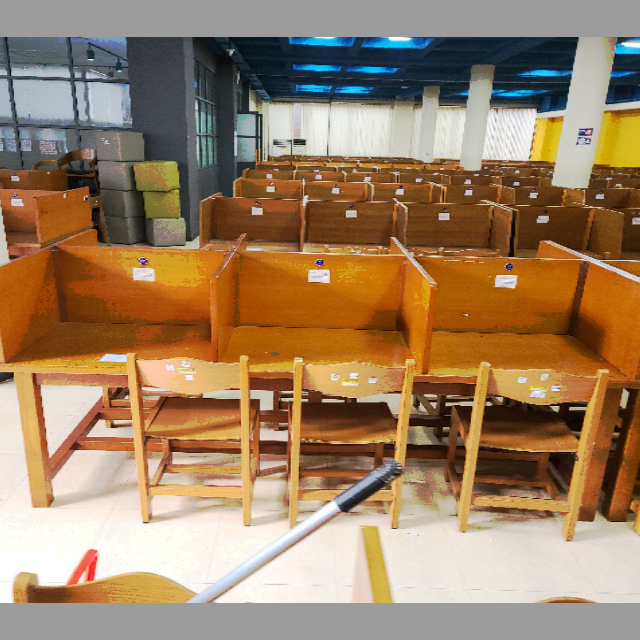empty: (221, 237, 428, 445), (433, 259, 638, 457), (1, 240, 216, 425)
